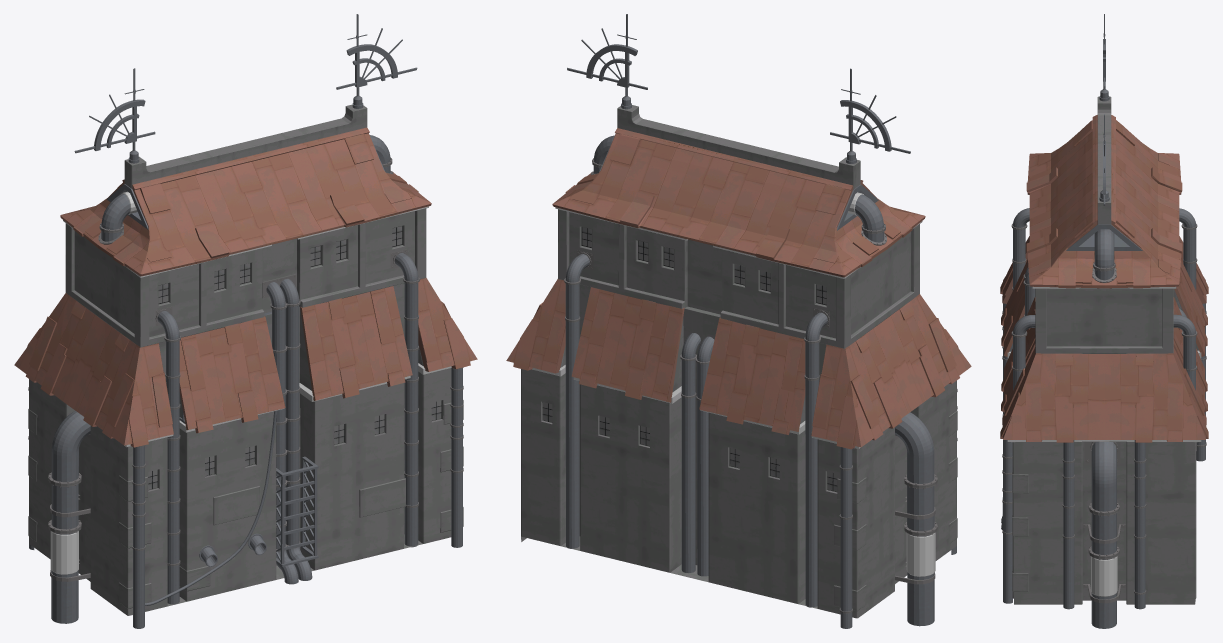
Rendered from AreaG_Building_Ac.fbx.
3 renders of one model, left to right at view 1: azimuth 30°, elevation 25°; view 2: azimuth 150°, elevation 25°; view 3: azimuth 270°, elevation 25°, orthographic. The views are drawn at different scales.
Visible parts, largest first — view 1: SM_ENV_AMVLLG02_AreaG_Building_Ac.mo; view 2: SM_ENV_AMVLLG02_AreaG_Building_Ac.mo; view 3: SM_ENV_AMVLLG02_AreaG_Building_Ac.mo.
Part boxes in pixels (x1,y1,x2,y2): SM_ENV_AMVLLG02_AreaG_Building_Ac.mo: (14,14,477,628); SM_ENV_AMVLLG02_AreaG_Building_Ac.mo: (506,14,971,628); SM_ENV_AMVLLG02_AreaG_Building_Ac.mo: (1000,14,1208,628).
Size of the model in its own units: 3181 by 4137 by 1592.
